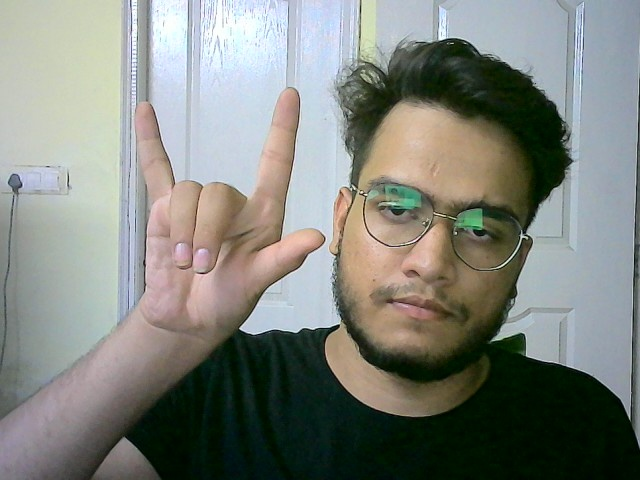I Love You: (132, 84, 326, 331)
